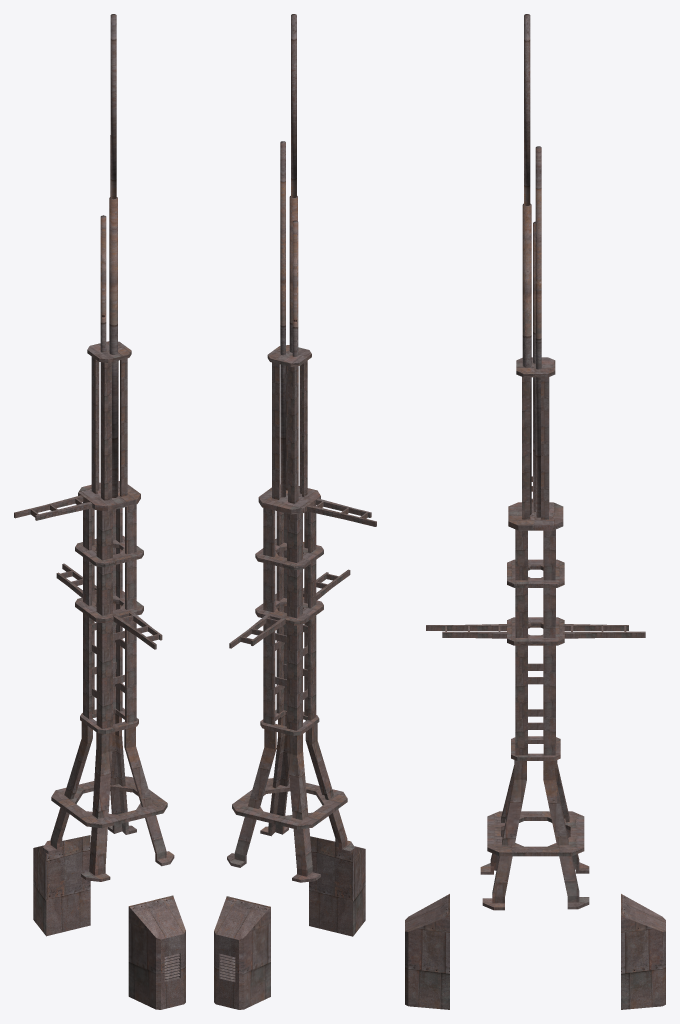
The model's file is SM_LDFest_23_00.fbx.
3 renders of one model, left to right at view 1: azimuth 30°, elevation 25°; view 2: azimuth 150°, elevation 25°; view 3: azimuth 270°, elevation 25°, orthographic. The views are drawn at different scales.
Visible parts, largest first — view 1: SM_LDFest_23_00; view 2: SM_LDFest_23_00; view 3: SM_LDFest_23_00.
Boxes of the visible parts, <box> form: SM_LDFest_23_00: <box>14,14,185,1009</box>; SM_LDFest_23_00: <box>214,14,376,1009</box>; SM_LDFest_23_00: <box>405,14,665,1009</box>.
Size of the model in its own units: 933 by 6239 by 1499.
